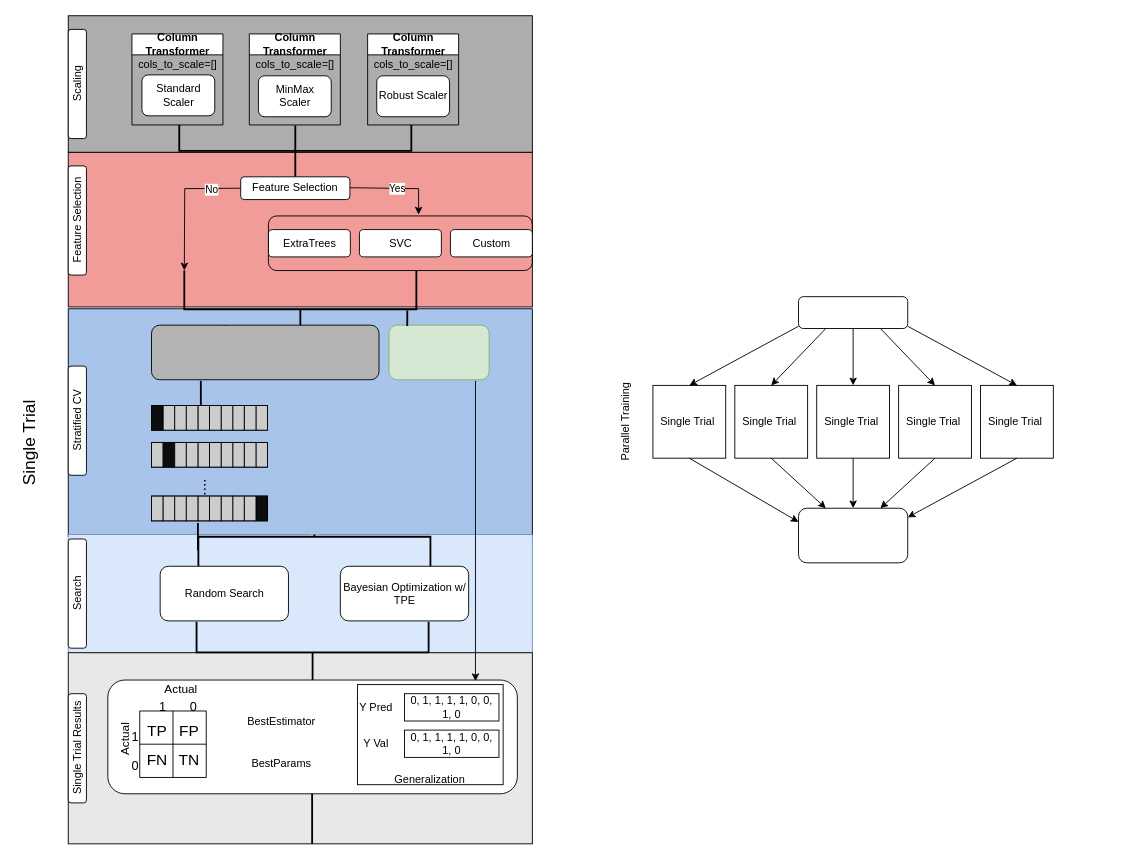
This 1144x862 diagram has some shape labels left out. Here are the shapes that lost their labels. From the top down, the centre of each, then its label:
At [853,312]: "Weighted-Decision Tree".
At [265,352]: "Train 80%".
At [438,352]: "Generalize 20%".
At [853,535]: "Avg Results".
